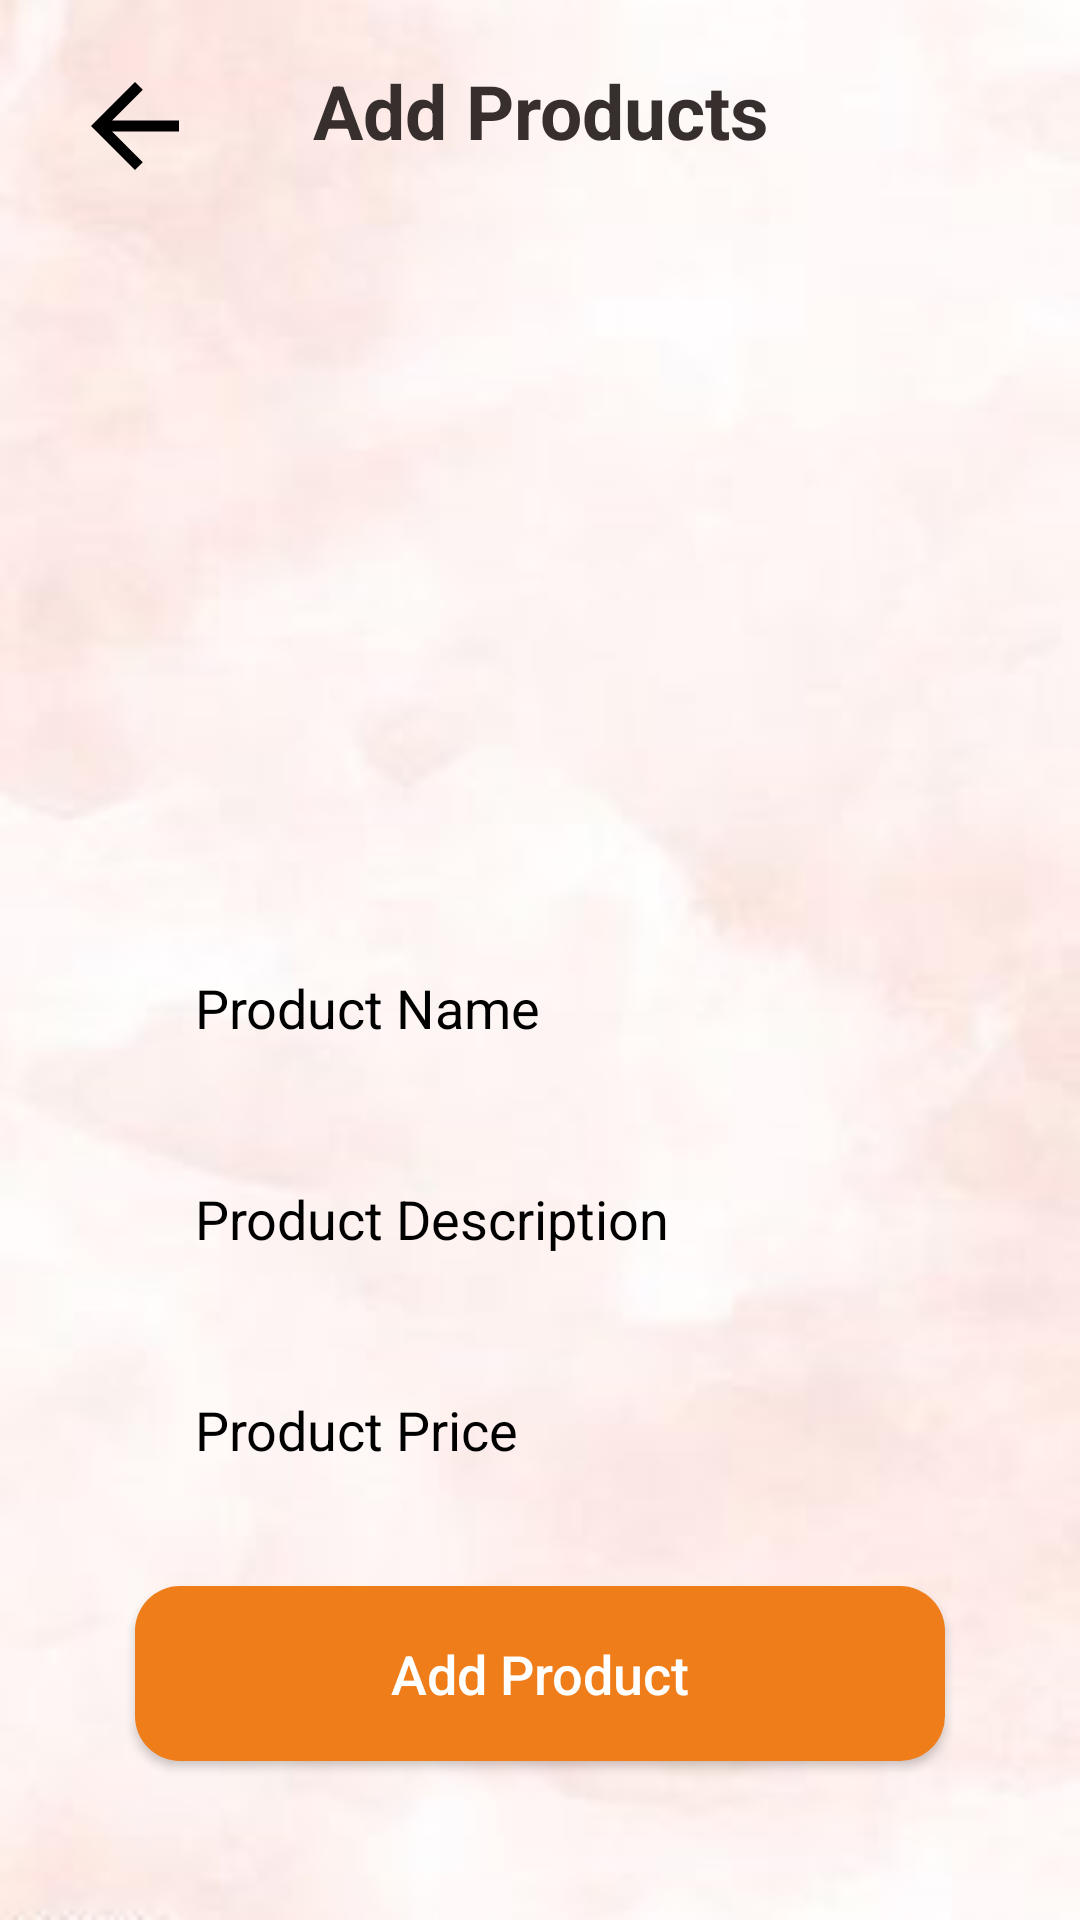

Named icons in this screenshot (1080*1920) and their centers, point (x, y):
back: point (135, 126)
